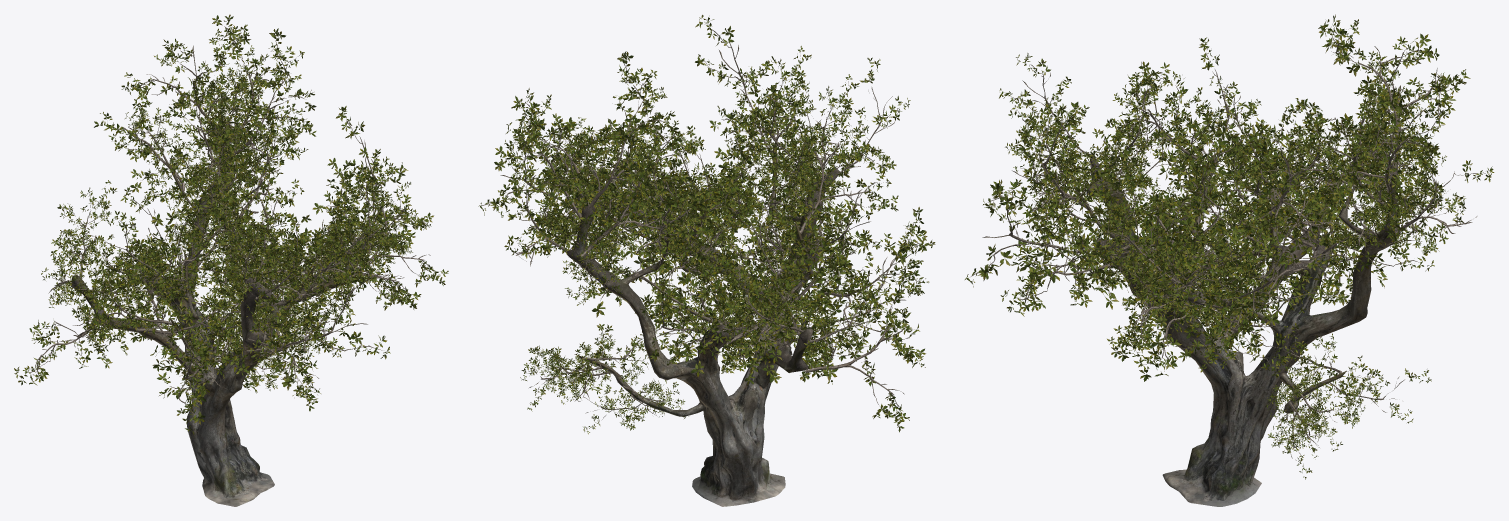
The model's file is tree.glb.
3 renders of one model, left to right at view 1: azimuth 30°, elevation 25°; view 2: azimuth 150°, elevation 25°; view 3: azimuth 270°, elevation 25°, orthographic. The views are drawn at different scales.
Visible parts, largest first — view 1: island_tree_01_LOD0; view 2: island_tree_01_LOD0; view 3: island_tree_01_LOD0.
Part boxes in pixels (x1,y1,x2,y2): island_tree_01_LOD0: (14, 14, 448, 506); island_tree_01_LOD0: (478, 15, 935, 506); island_tree_01_LOD0: (965, 14, 1494, 506).
Bounding box in the file's own units: 4.75 × 5.02 × 4.82.
Materials: 3 (3 with a texture image).
